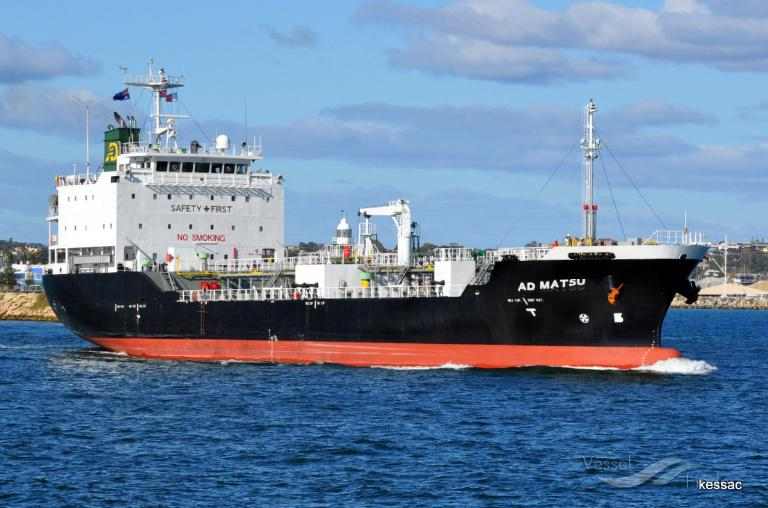OCR: (511, 280, 594, 298)
